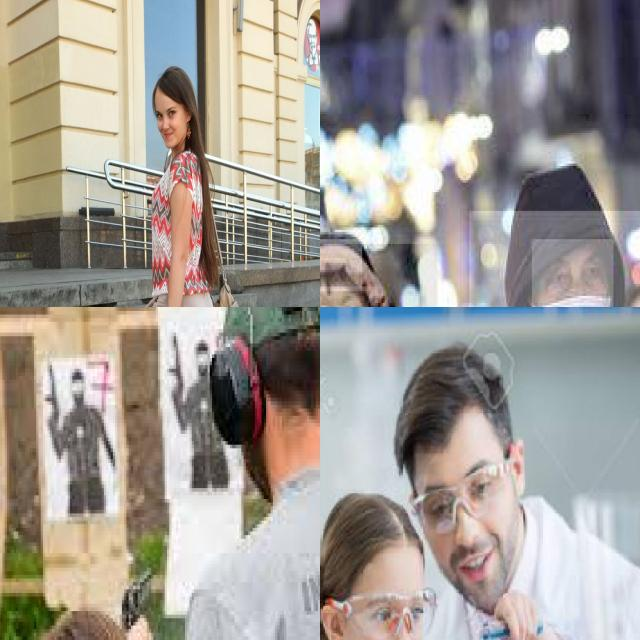Ear-protection: (203, 329, 266, 445)
face_mask: (531, 239, 613, 307)
face_nomask: (418, 468, 508, 578), (359, 591, 424, 640)
glasses: (413, 448, 517, 539), (328, 581, 438, 640)
hand_noglove: (488, 583, 545, 640)
head_nohelmet: (384, 341, 512, 454), (320, 488, 432, 577), (516, 164, 612, 262), (320, 239, 362, 291)
person: (189, 307, 320, 640)
